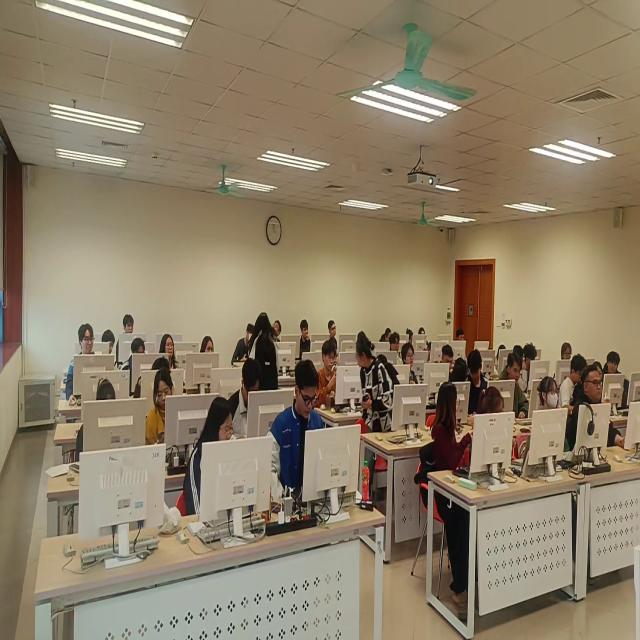raise_head: (570, 365, 623, 453), (538, 377, 575, 458), (65, 320, 97, 408), (117, 312, 137, 370), (159, 332, 183, 369), (402, 342, 420, 387), (457, 327, 469, 366), (301, 319, 313, 357), (200, 334, 218, 356), (272, 319, 286, 347), (559, 341, 573, 363), (390, 332, 401, 356), (329, 319, 339, 341)
sleep: (424, 340, 435, 364)
stand: (355, 333, 400, 439), (251, 309, 280, 395)
using_computer: (267, 354, 327, 514), (186, 395, 235, 525), (73, 371, 125, 468), (227, 352, 267, 447), (145, 365, 182, 453), (500, 347, 529, 421), (561, 353, 588, 411), (606, 347, 630, 409), (477, 384, 508, 423), (231, 319, 256, 367), (524, 340, 543, 370), (441, 340, 455, 376), (496, 340, 507, 368), (593, 359, 605, 383), (379, 328, 393, 346), (406, 327, 415, 344), (419, 325, 427, 337)
using_phone: (317, 338, 339, 414)
